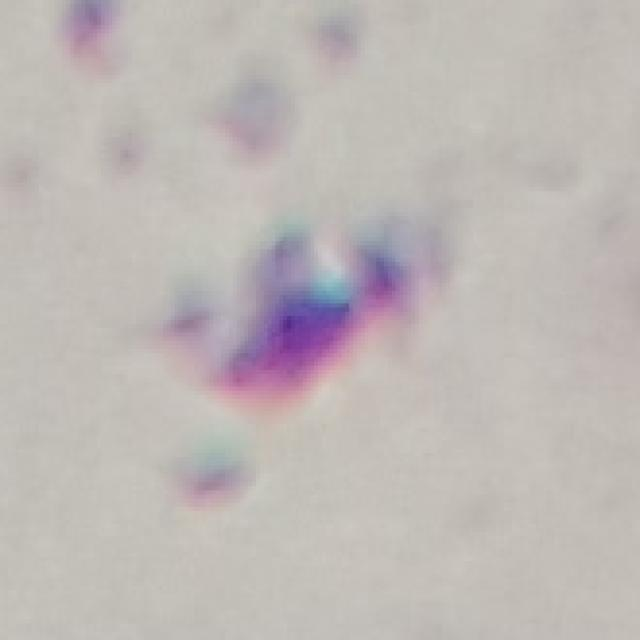non-sperm: (219, 229, 421, 410)
